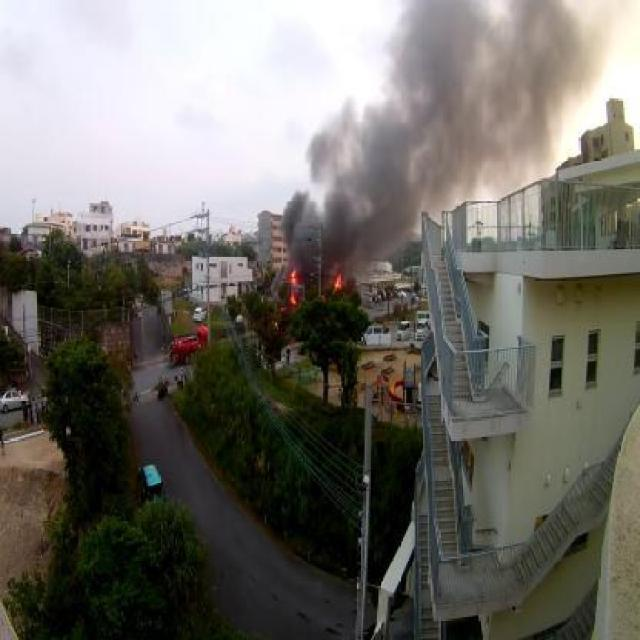Fire: (289, 265, 300, 287), (333, 276, 341, 290), (290, 292, 298, 306)
